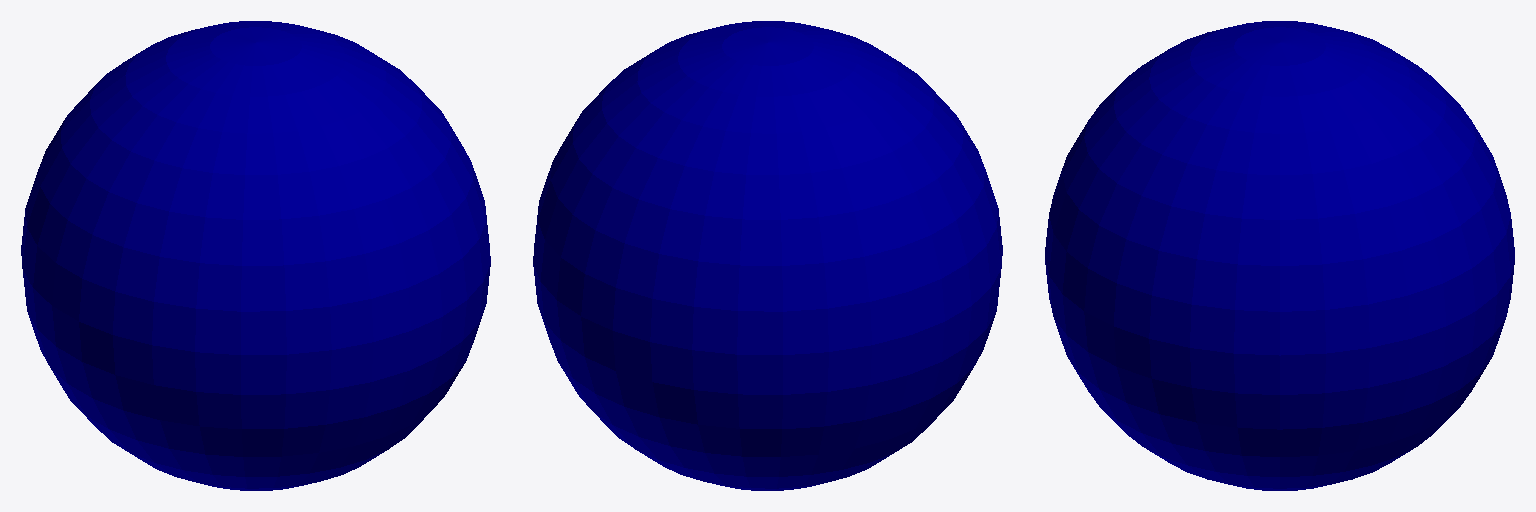
Rendered from sol_luna.obj.
3 renders of one model, left to right at view 1: azimuth 30°, elevation 25°; view 2: azimuth 150°, elevation 25°; view 3: azimuth 270°, elevation 25°, orthographic.
Parts seen in each view (by area): view 1: Sphere; view 2: Sphere; view 3: Sphere.
Part boxes in pixels (bbox=[...]): Sphere: bbox=[21, 21, 490, 490]; Sphere: bbox=[533, 21, 1002, 490]; Sphere: bbox=[1045, 21, 1514, 490].
Bounding box in the file's own units: 7.28 × 7.28 × 7.28.